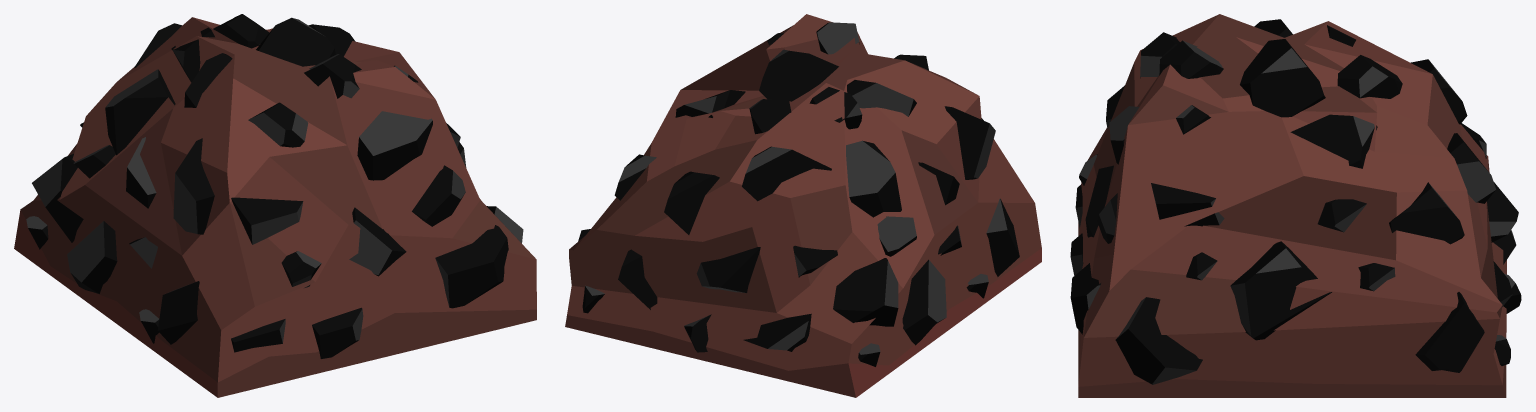
Rendered from pile_coal_raw.fbx.
3 views of the same model, side by side, from view 1: azimuth 30°, elevation 25°; view 2: azimuth 150°, elevation 25°; view 3: azimuth 270°, elevation 25° (orthographic). The views are drawn at different scales.
Visible parts, largest first — view 1: Cube.045; view 2: Cube.045; view 3: Cube.045.
Part boxes in pixels (x1,y1,x2,y2): Cube.045: [14, 14, 536, 397]; Cube.045: [565, 14, 1041, 397]; Cube.045: [1070, 14, 1521, 397].
Size of the model in its own units: 274 by 196 by 289.
